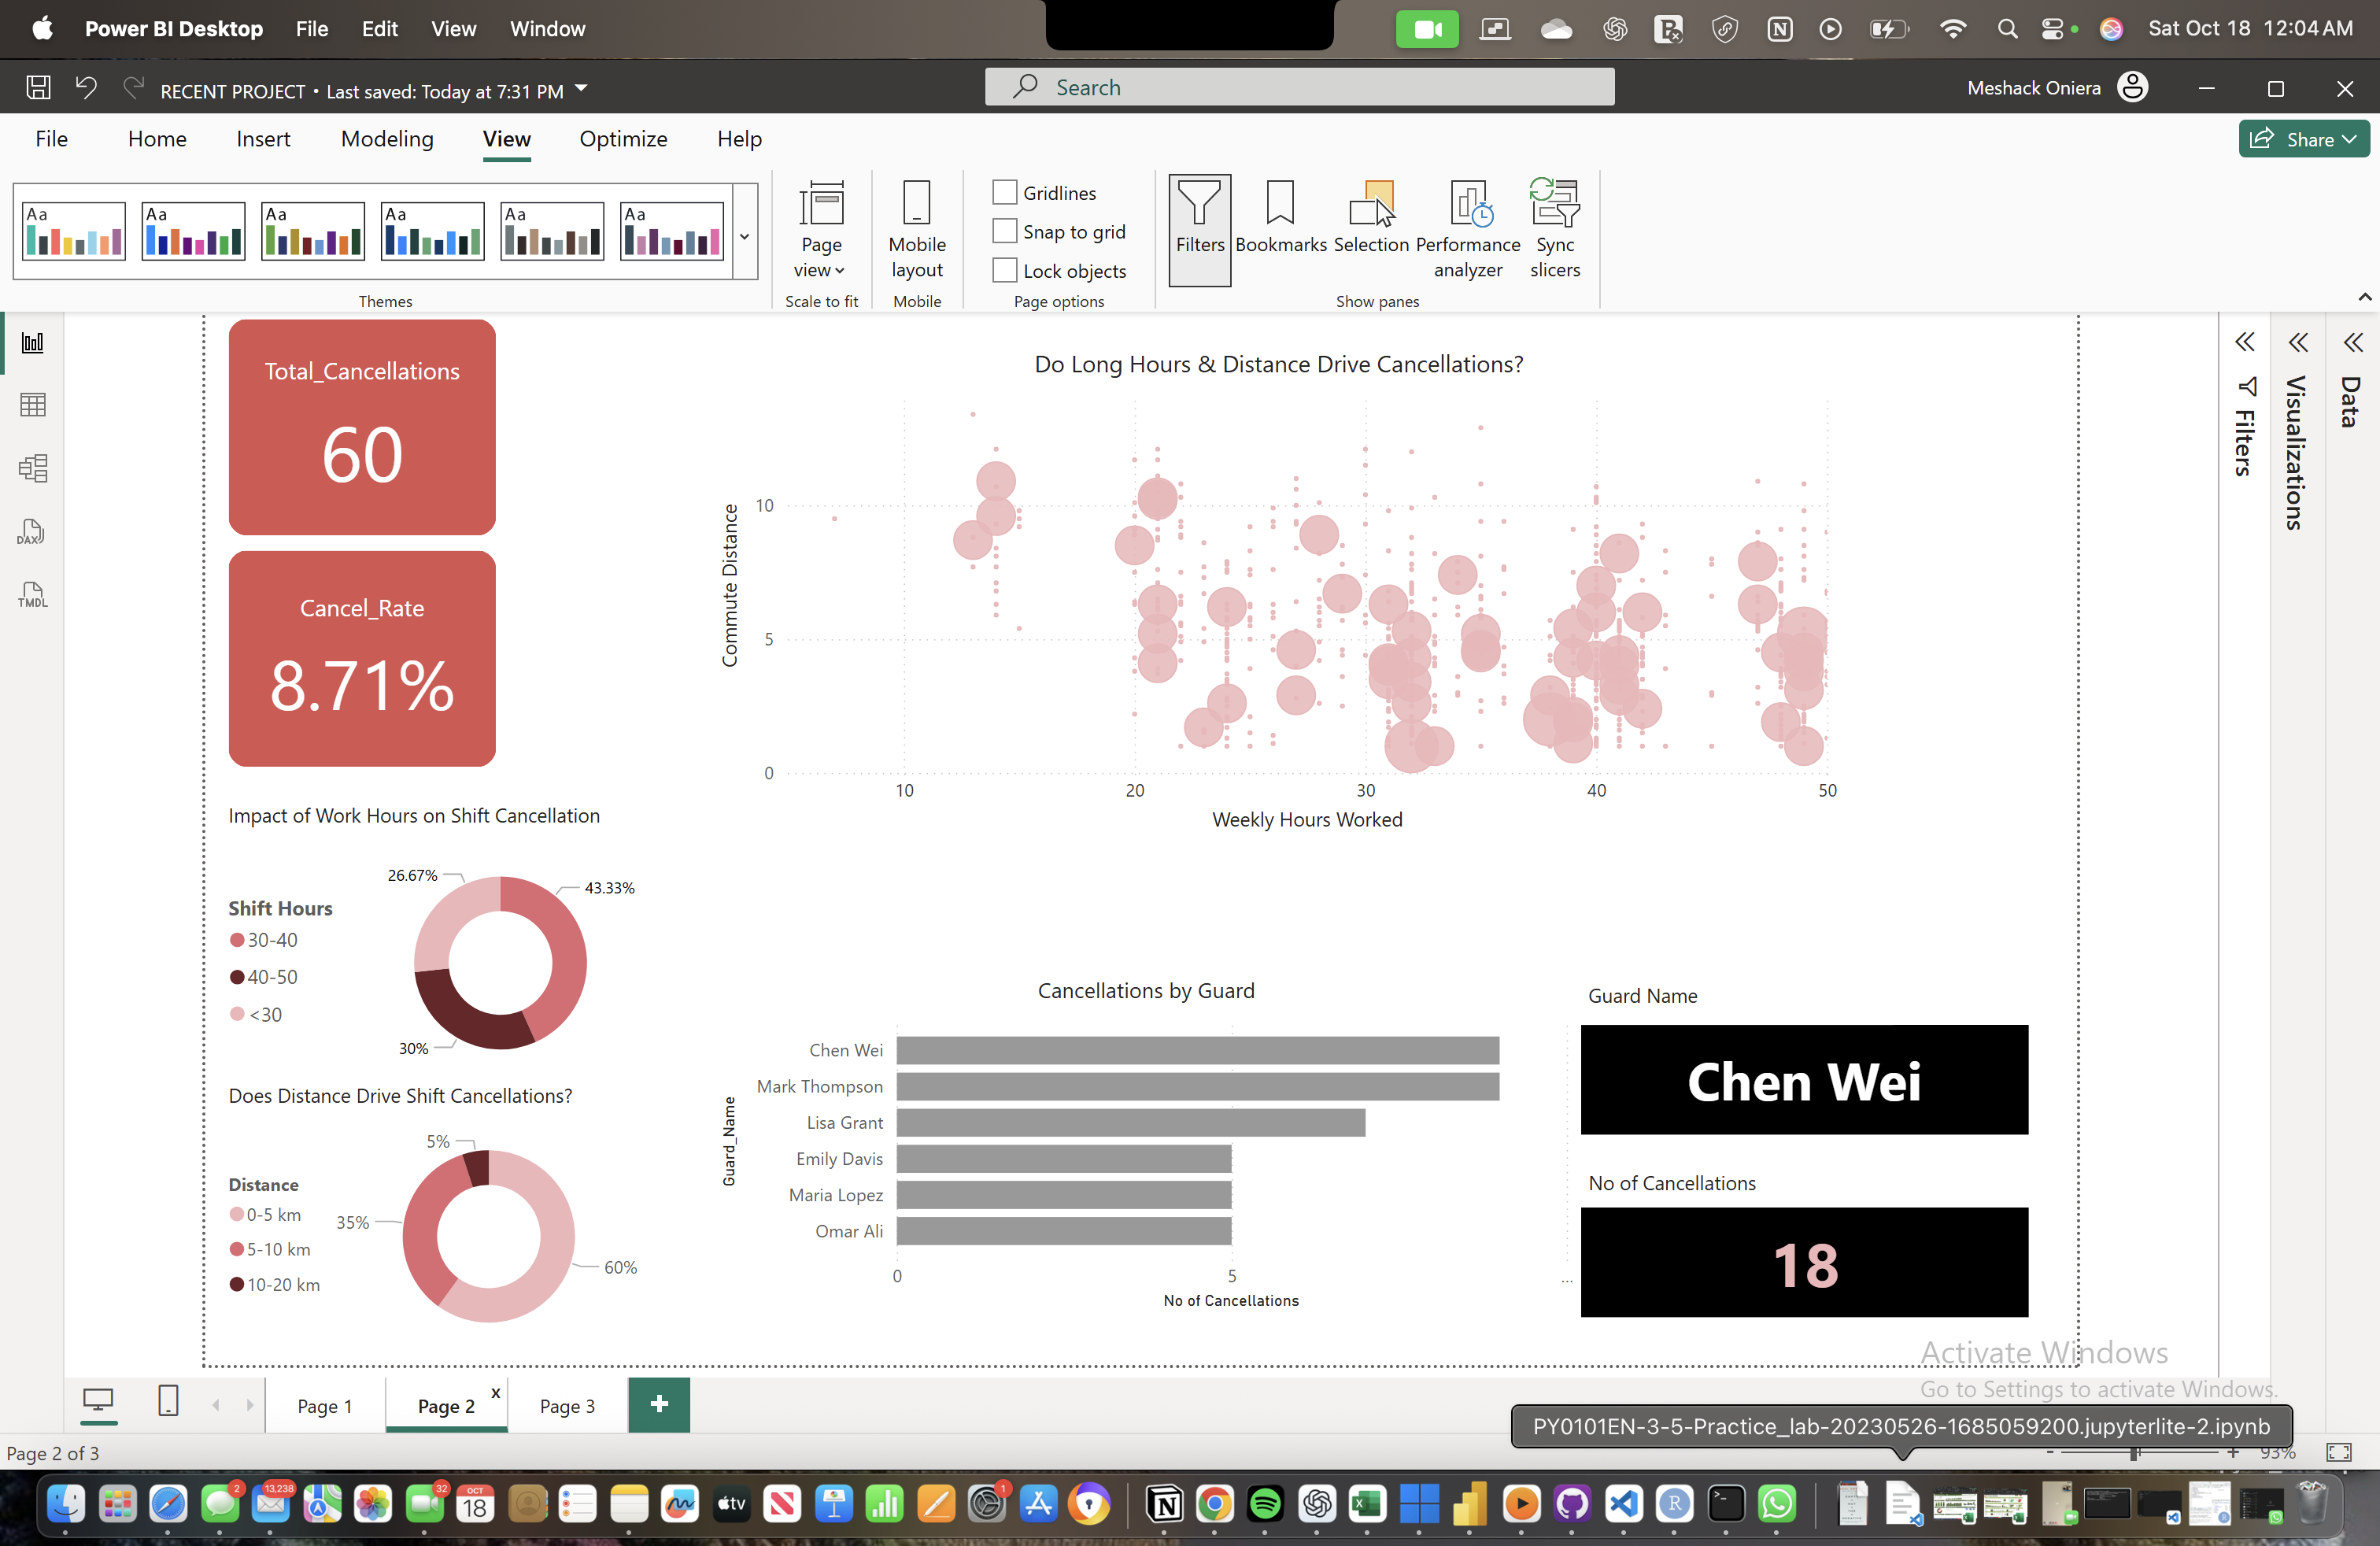

The dashboard page shown, as its layout file describes it:
{"tool":"powerbi","page":{"name":"Page 2","canvas":[1280,720],"ordinal":1},"visuals":[{"type":"cardVisual","fields":{"Data":["Measure Table.Total_Cancellations"]},"box":[10.5,0,193.8,158.2],"z":0},{"type":"cardVisual","fields":{"Data":["Measure Table.Cancel_Rate"]},"box":[10.5,158.2,193.8,158.2],"z":1000},{"type":"donutChart","title":"Impact of Work Hours on Shift Cancellation","fields":{"Y":["Measure Table.Total_Cancellations"],"Category":["Shifts.Hour_This_Week_Band"]},"box":[10.5,334.9,294.1,203.1],"z":2000},{"type":"donutChart","title":"Does Distance Drive Shift Cancellations?","fields":{"Y":["Measure Table.Total_Cancellations"],"Category":["Shifts.Distance_Band"]},"box":[10.5,526.2,294.1,193.8],"z":3000},{"type":"clusteredBarChart","title":"Cancellations by Guard","fields":{"Y":["Measure Table.Total_Cancellations"],"Category":["Guards.Guard_Name"]},"box":[348.1,453.6,592.1,233.4],"z":4000},{"type":"scatterChart","title":"Do Long Hours & Distance Drive Cancellations?","fields":{"X":["Shifts.Hours_This_Week"],"Y":["Shifts.Distance_km"],"Size":["Measure Table.Total_Cancellations"]},"box":[348.1,23.7,602.6,323.1],"z":5000},{"type":"card","fields":{"Values":["Min(Guards.Guard_Name)"]},"box":[940.2,487.9,305.9,75.2],"z":5001},{"type":"card","fields":{"Values":["Measure Table.Total_Cancellations"]},"box":[940.2,611.9,305.9,75.2],"z":5002},{"type":"textbox","box":[940.2,453.6,213.6,34.3],"z":5003},{"type":"textbox","box":[940.2,581.5,269,30.3],"z":5004}]}

Visuals, with their boxes on the page's 1280x720 design canvas (x1, y1, x2, y2). These are canvas units, not pixel positions in the 2380x1546 screenshot, which may show the page scaled, cropped or inside an application window:
cardVisual - Measure Table.Total_Cancellations: box=[10, 0, 204, 158]
cardVisual - Measure Table.Cancel_Rate: box=[10, 158, 204, 316]
"Impact of Work Hours on Shift Cancellation" donutChart: box=[10, 335, 305, 538]
"Does Distance Drive Shift Cancellations?" donutChart: box=[10, 526, 305, 720]
"Cancellations by Guard" clusteredBarChart: box=[348, 454, 940, 687]
"Do Long Hours & Distance Drive Cancellations?" scatterChart: box=[348, 24, 951, 347]
card - Min(Guards.Guard_Name): box=[940, 488, 1246, 563]
card - Measure Table.Total_Cancellations: box=[940, 612, 1246, 687]
textbox: box=[940, 454, 1154, 488]
textbox: box=[940, 582, 1209, 612]
